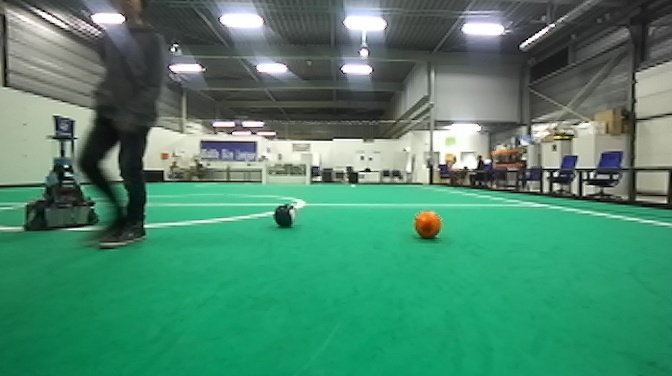ball: (409, 207, 445, 243), (270, 200, 304, 232)
goal: (261, 160, 312, 189)
goalpost: (261, 167, 269, 189), (304, 162, 310, 187)
human: (76, 1, 169, 252)
robot: (20, 112, 97, 235)
